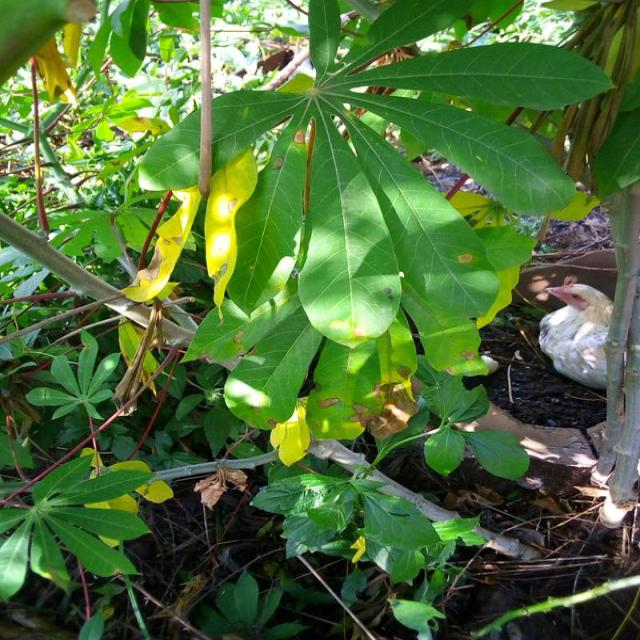cassava leaf: (131, 1, 612, 450), (296, 101, 402, 348)
